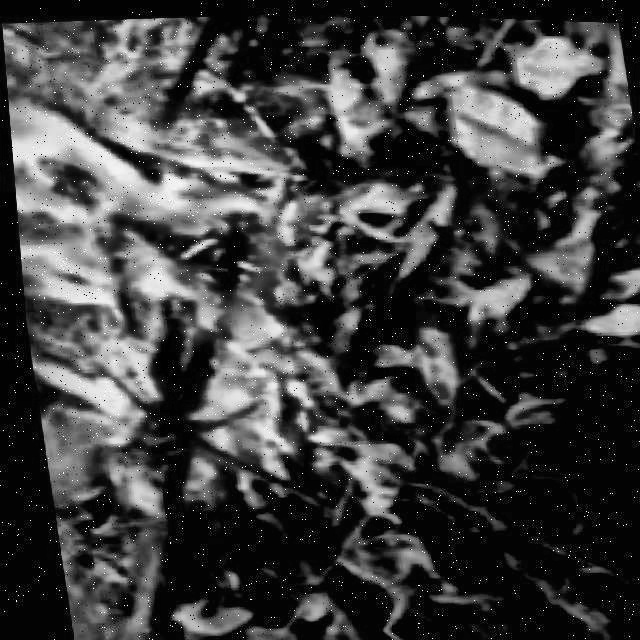Fire: (0, 0, 380, 511)
